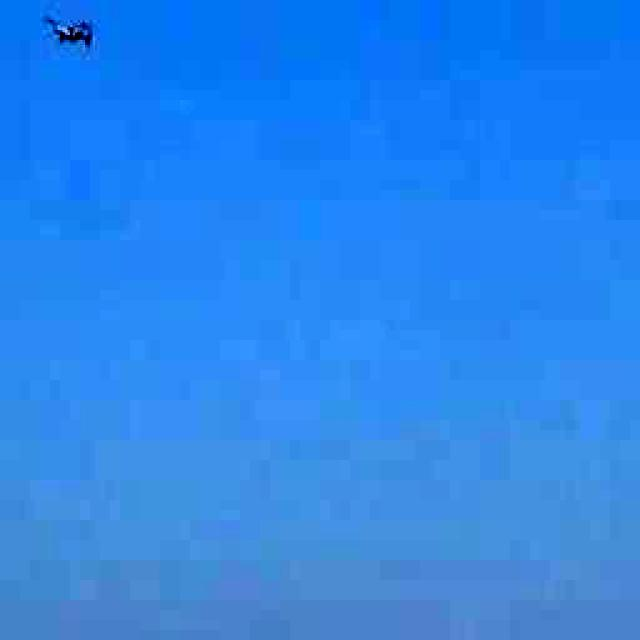bird: (35, 0, 110, 68)
